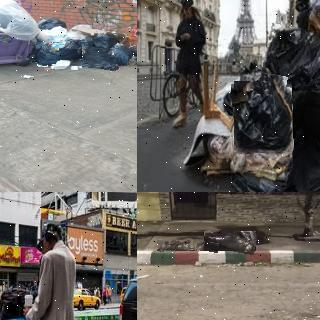Garbage: (233, 80, 293, 153), (262, 27, 320, 95), (288, 87, 320, 192), (204, 229, 256, 253), (37, 41, 82, 67), (82, 47, 116, 70), (107, 43, 137, 69), (93, 32, 117, 50), (157, 240, 193, 251), (194, 240, 219, 252)
